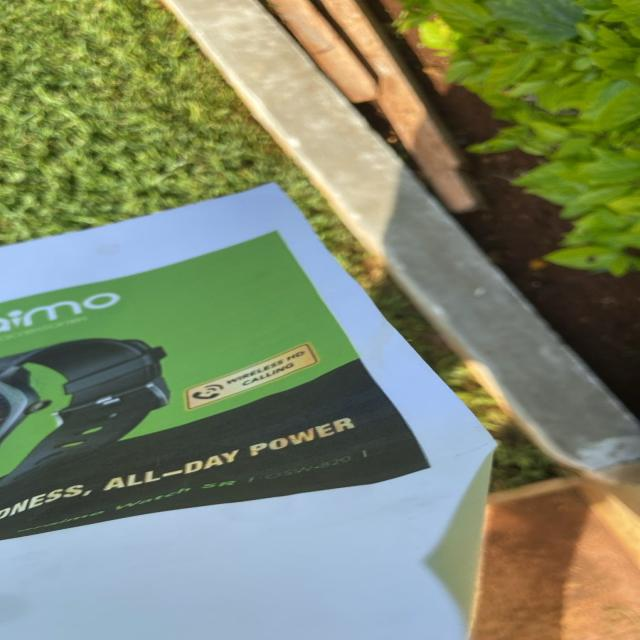Oraimo Watch 5R OSW-820: (11, 446, 379, 536)
